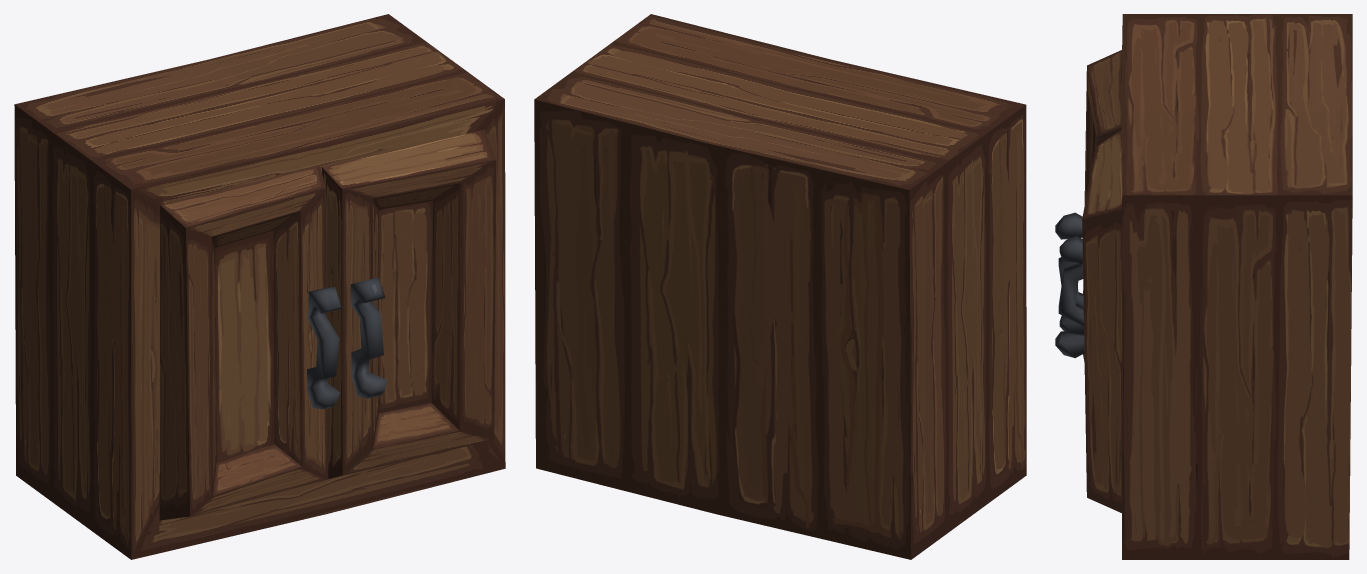
File: SM_PROP_cabinet_interior_04.fbx
3 views of the same model, side by side, from view 1: azimuth 30°, elevation 25°; view 2: azimuth 150°, elevation 25°; view 3: azimuth 270°, elevation 25° (orthographic).
Parts seen in each view (by area): view 1: SM_PROP_cabinet_interior_04, SM_PROP_cabinet_door_01_interior_04, SM_PROP_cabinet_door_02_interior_04; view 2: SM_PROP_cabinet_interior_04; view 3: SM_PROP_cabinet_interior_04, SM_PROP_cabinet_door_02_interior_04, SM_PROP_cabinet_door_01_interior_04.
Part boxes in pixels (bbox=[...]): SM_PROP_cabinet_interior_04: bbox=[14, 14, 505, 559]; SM_PROP_cabinet_door_01_interior_04: bbox=[159, 166, 341, 520]; SM_PROP_cabinet_door_02_interior_04: bbox=[321, 129, 496, 479]; SM_PROP_cabinet_interior_04: bbox=[534, 14, 1026, 559]; SM_PROP_cabinet_interior_04: bbox=[1122, 14, 1352, 559]; SM_PROP_cabinet_door_02_interior_04: bbox=[1055, 129, 1122, 512]; SM_PROP_cabinet_door_01_interior_04: bbox=[1055, 50, 1121, 362].
Size of the model in its own units: 100 by 94.98 by 69.68.
